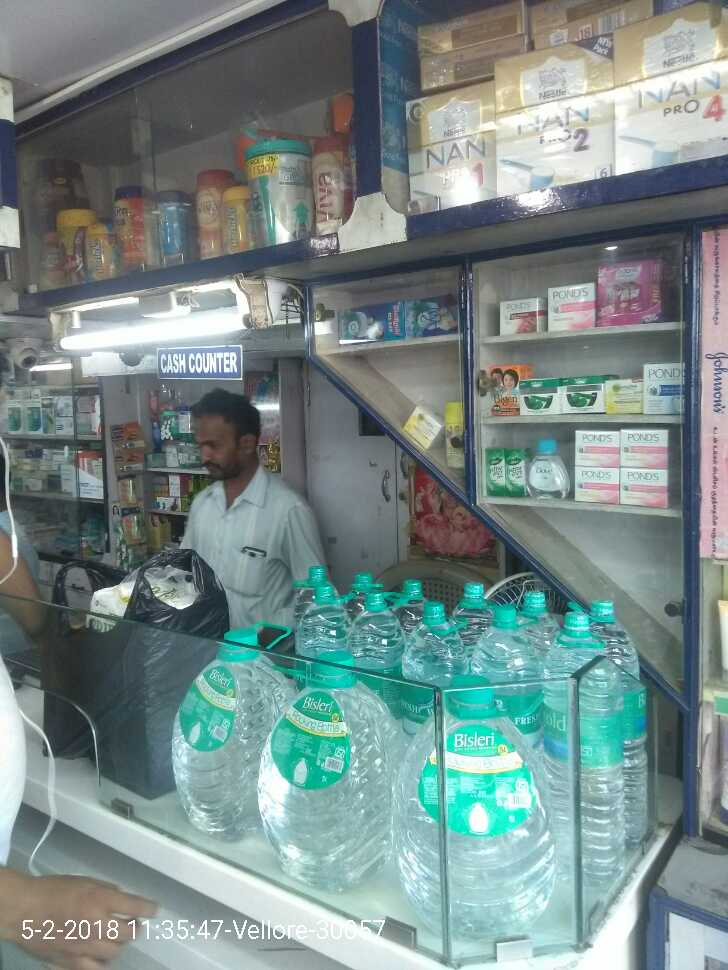reject: (332, 397, 400, 488)
